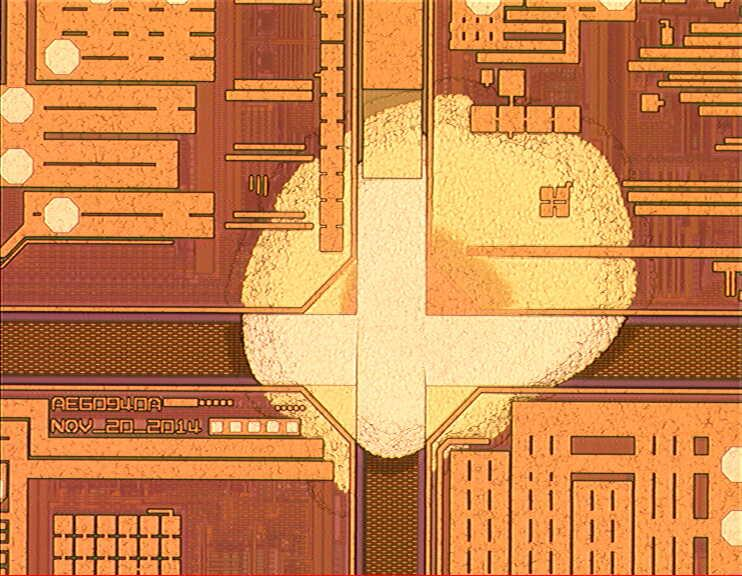BLOCK ETCH: (219, 75, 660, 517)
